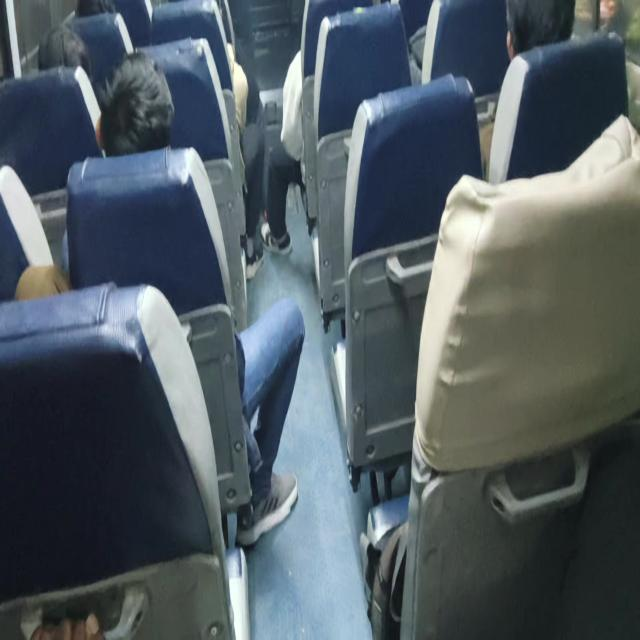person: (100, 56, 192, 144), (501, 0, 583, 50), (41, 27, 87, 80), (71, 0, 123, 21)
